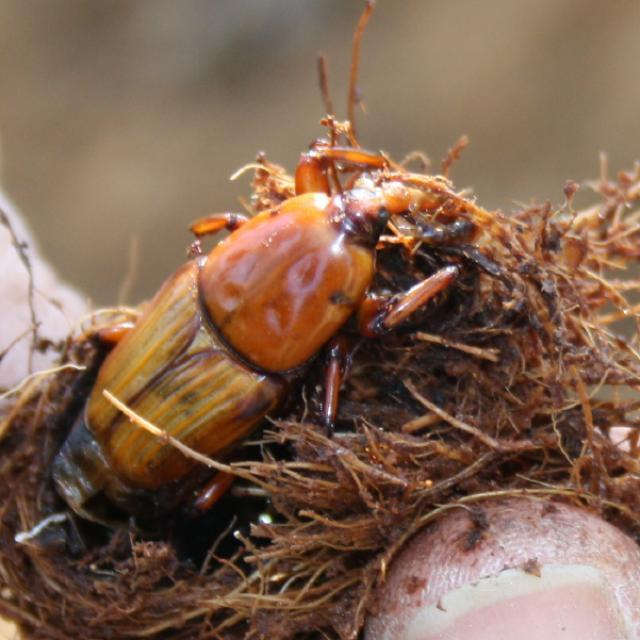Red-palm-weevil: (46, 172, 438, 524)
